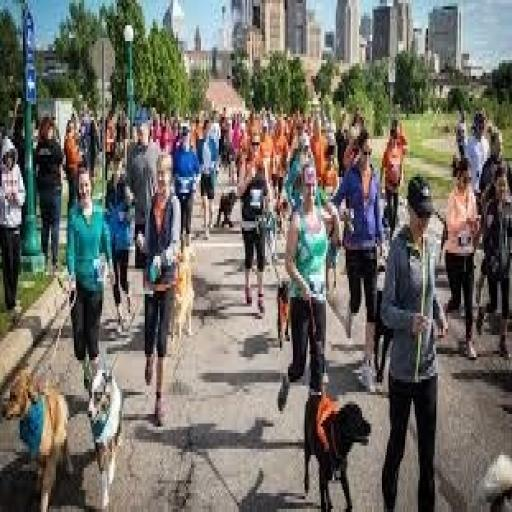running: (276, 155, 342, 408), (62, 155, 118, 395)
